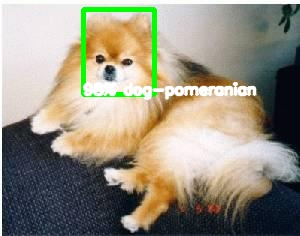dog-pomeranian: (82, 12, 149, 87)
